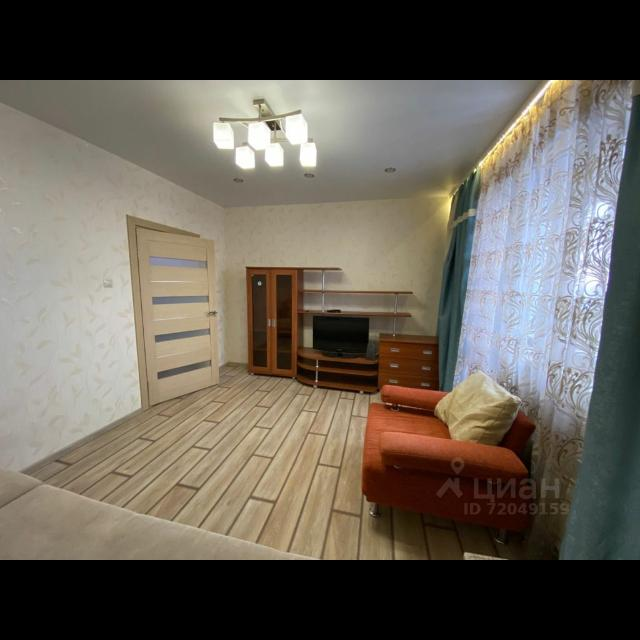Flat-Panel-TV: (310, 313, 372, 359)
